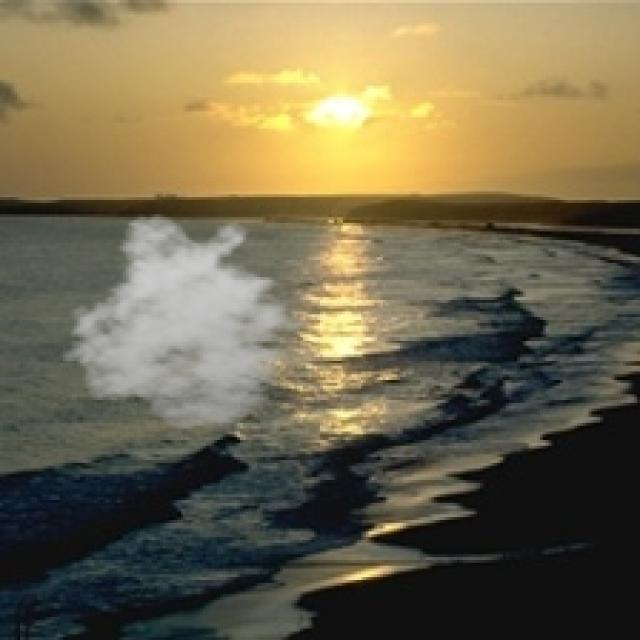Smoke: (60, 212, 320, 432)
